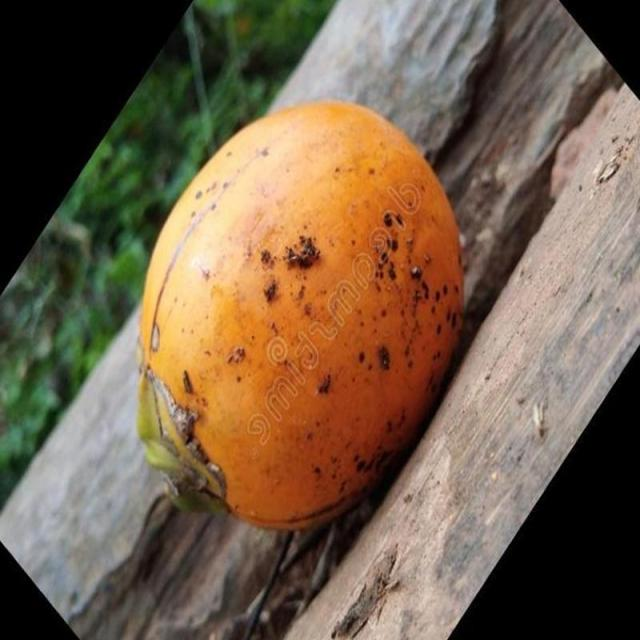good: (134, 100, 465, 532)
